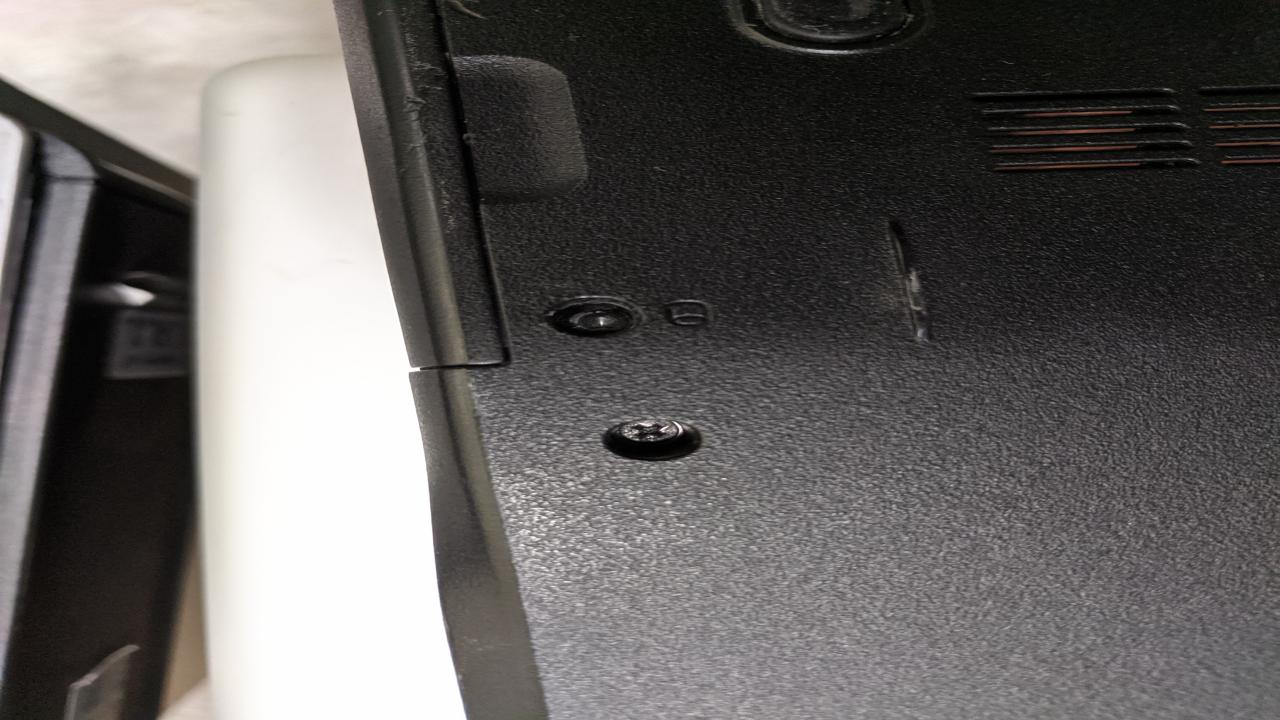CRS: (610, 413, 698, 446)
